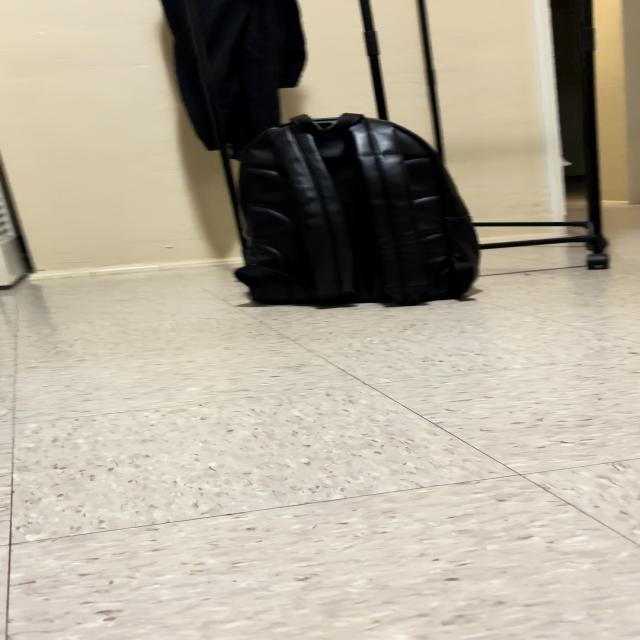backpack: (236, 113, 478, 304)
